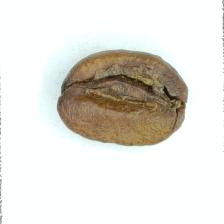NG: (77, 58, 181, 127)
